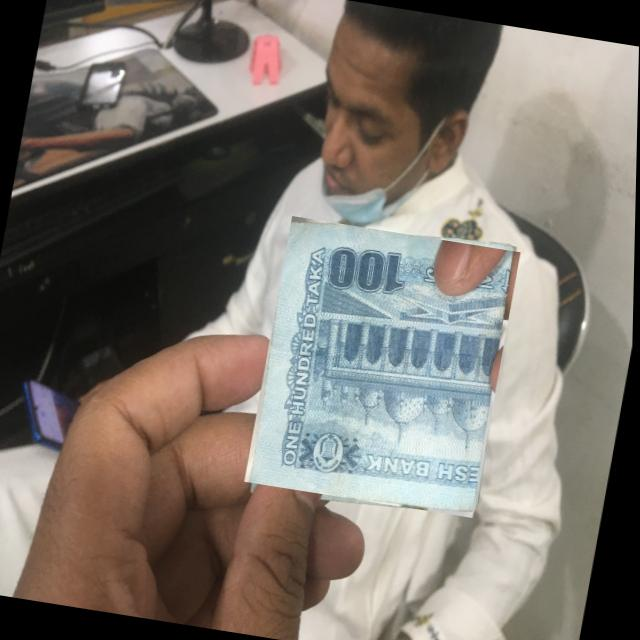Taka: (246, 216, 522, 518)
